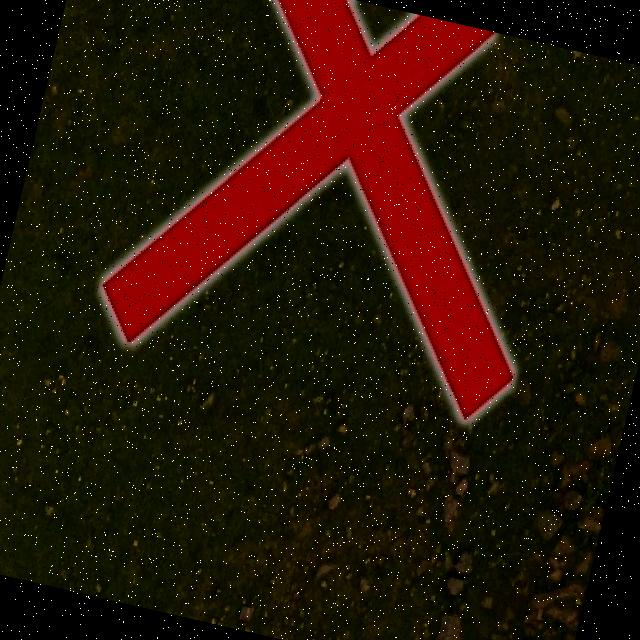x_marker: (90, 0, 586, 427)
